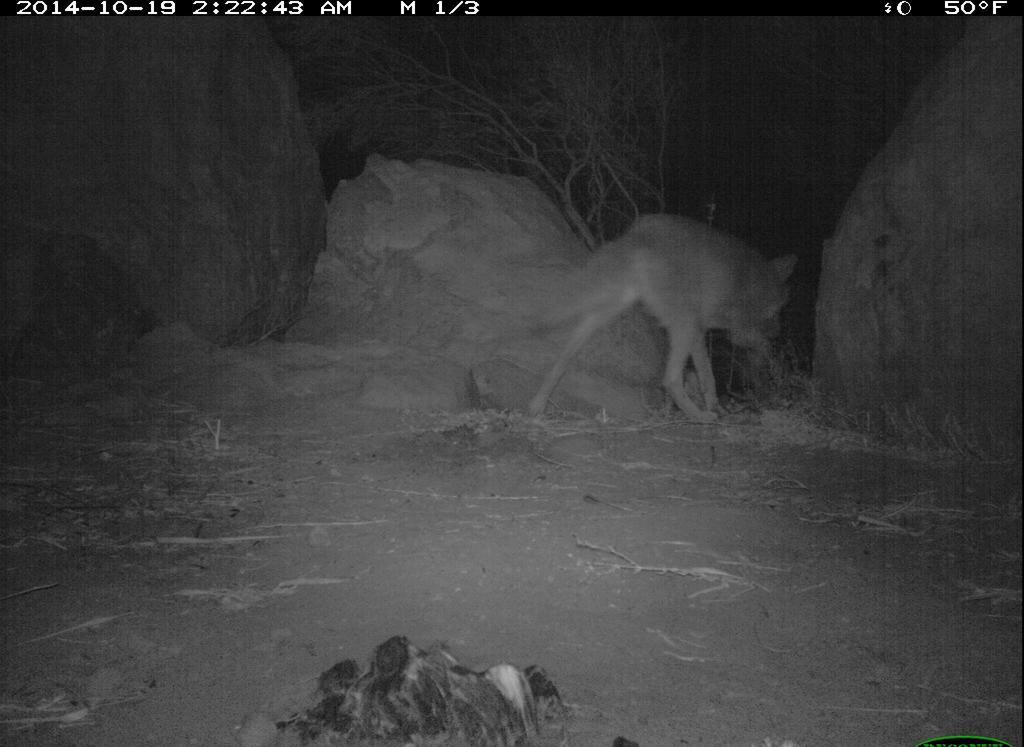coyote: (516, 205, 809, 431)
